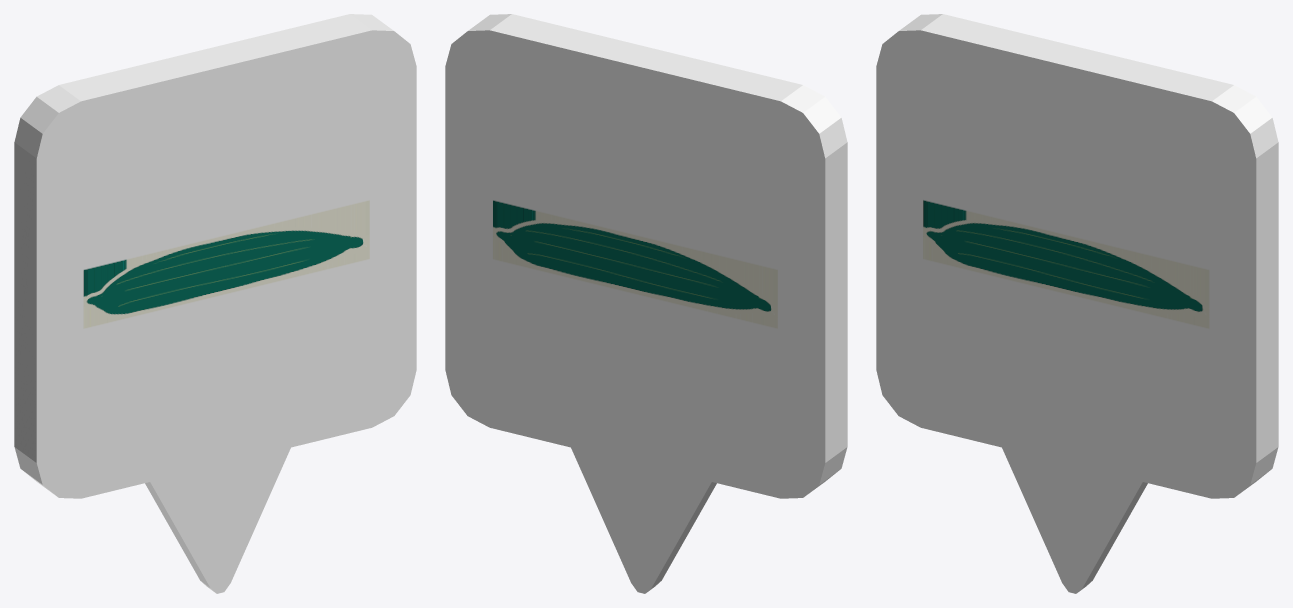
Rendered from prodpin-gurke.fbx.
3 views of the same model, side by side, from view 1: azimuth 30°, elevation 25°; view 2: azimuth 150°, elevation 25°; view 3: azimuth 330°, elevation 25° (orthographic).
Parts seen in each view (by area): view 1: ProdPIn; view 2: ProdPIn; view 3: ProdPIn.
Boxes of the visible parts, x1=… form: ProdPIn: x1=14, y1=14, x2=416, y2=593; ProdPIn: x1=445, y1=14, x2=847, y2=593; ProdPIn: x1=876, y1=14, x2=1278, y2=593.
Bounding box in the file's own units: 200 × 268 × 20.35.
1 material, 1 textured.
